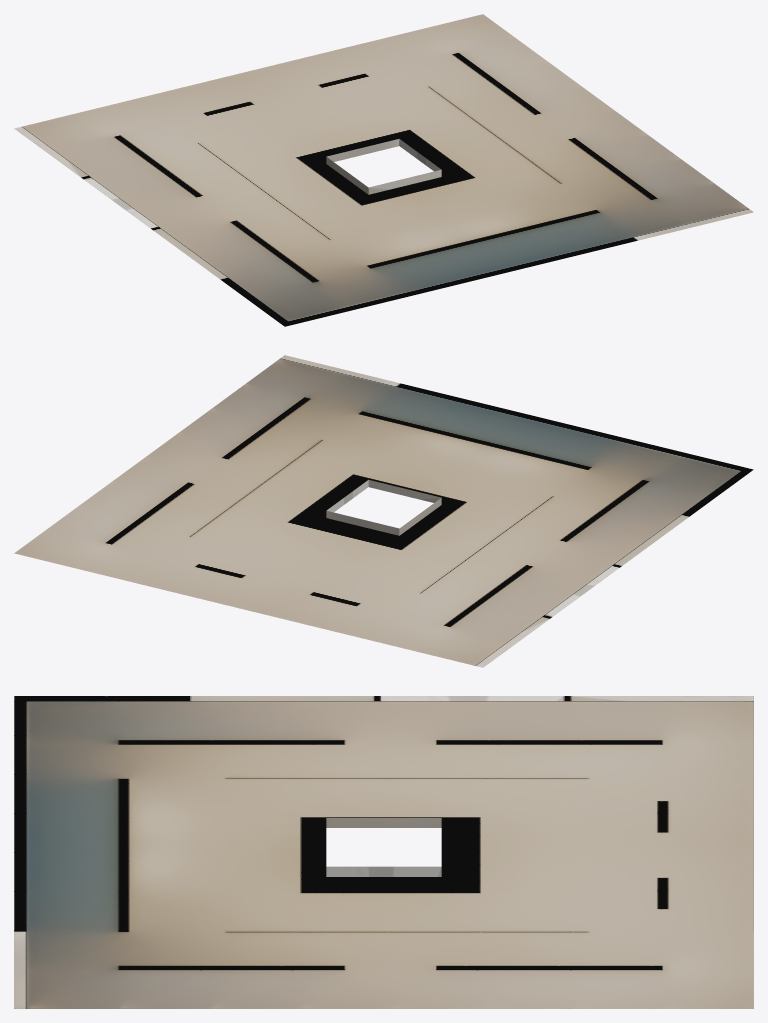
Rendered from ceiling.fbx.
3 views of the same model, one above another, from view 1: azimuth 30°, elevation 25°; view 2: azimuth 150°, elevation 25°; view 3: azimuth 270°, elevation 25° (orthographic). The views are drawn at different scales.
Parts seen in each view (by area): view 1: celling; view 2: celling; view 3: celling.
Part boxes in pixels (x1,y1,x2,y2): celling: [14, 14, 753, 326]; celling: [14, 355, 753, 667]; celling: [14, 696, 753, 1008].
Size of the model in its own units: 99.93 by 1.5 by 99.93.
